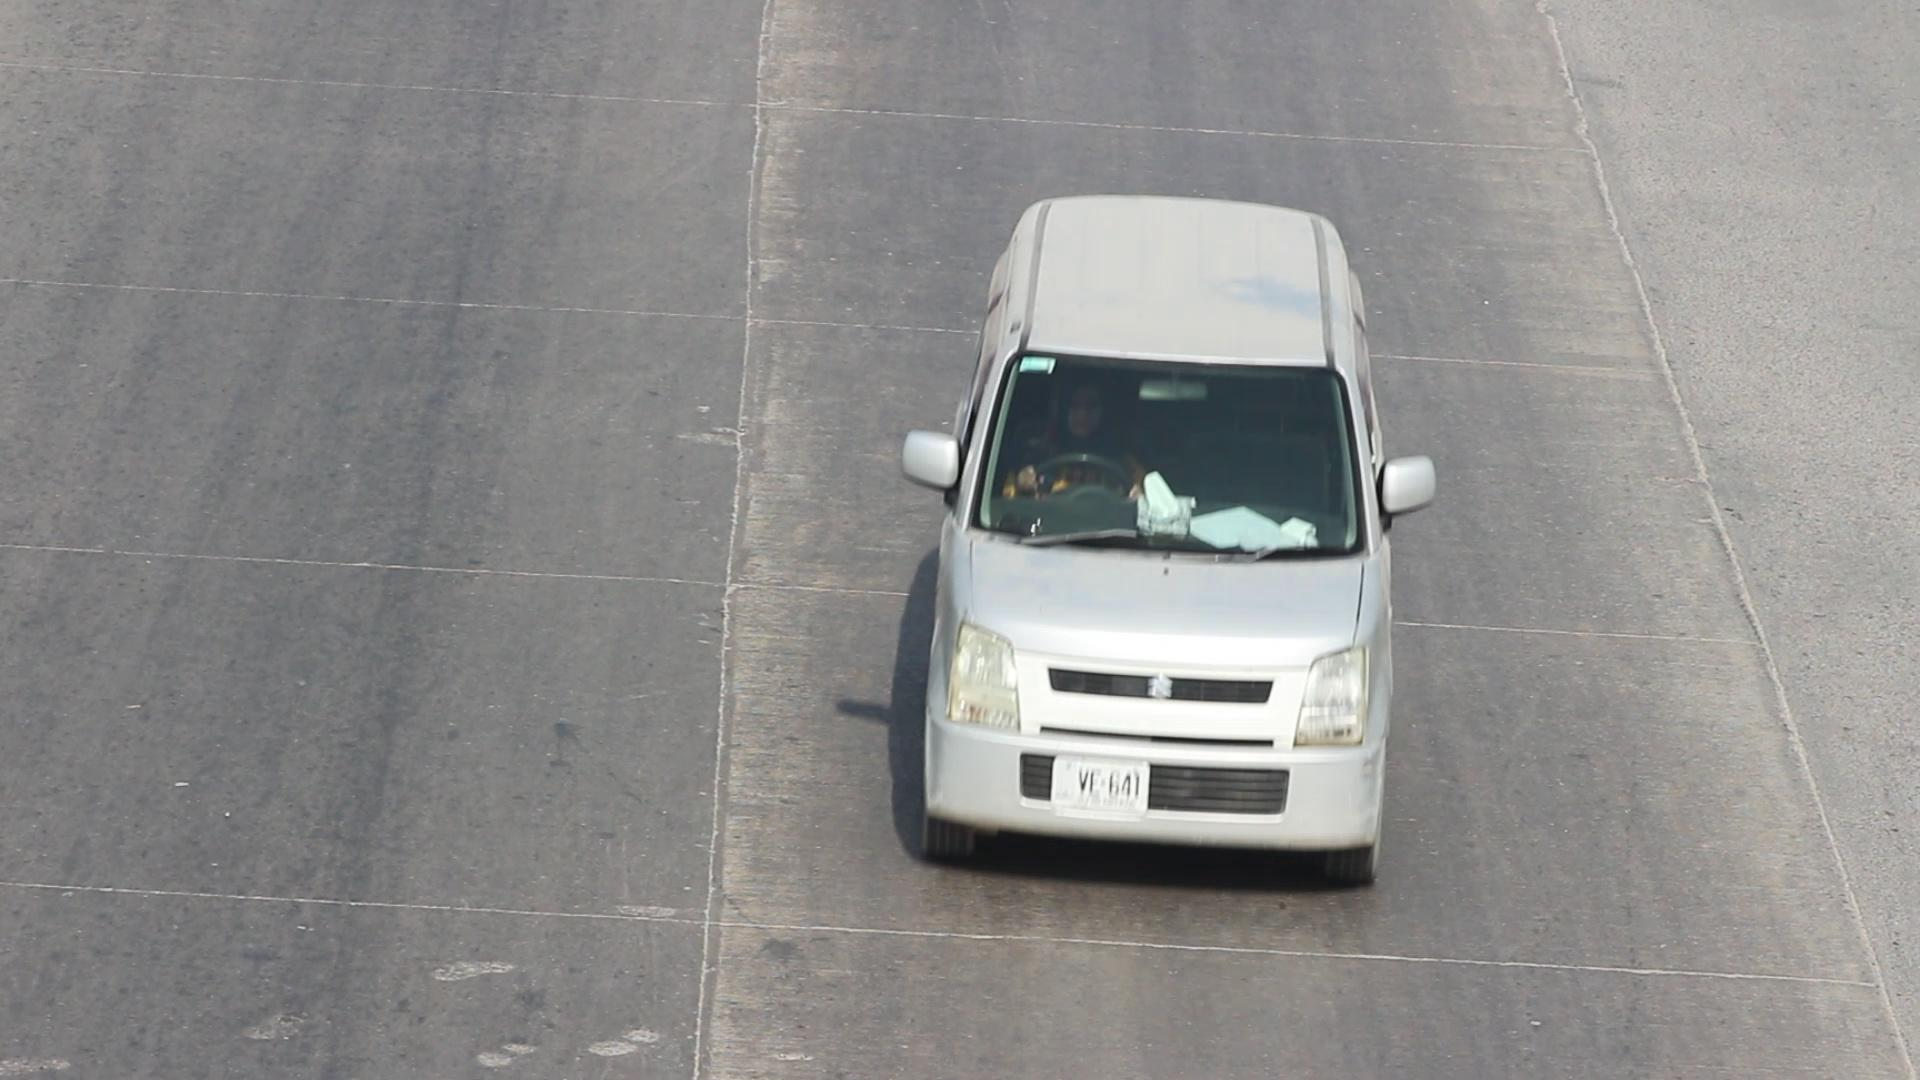windshield: (968, 343, 1383, 563)
